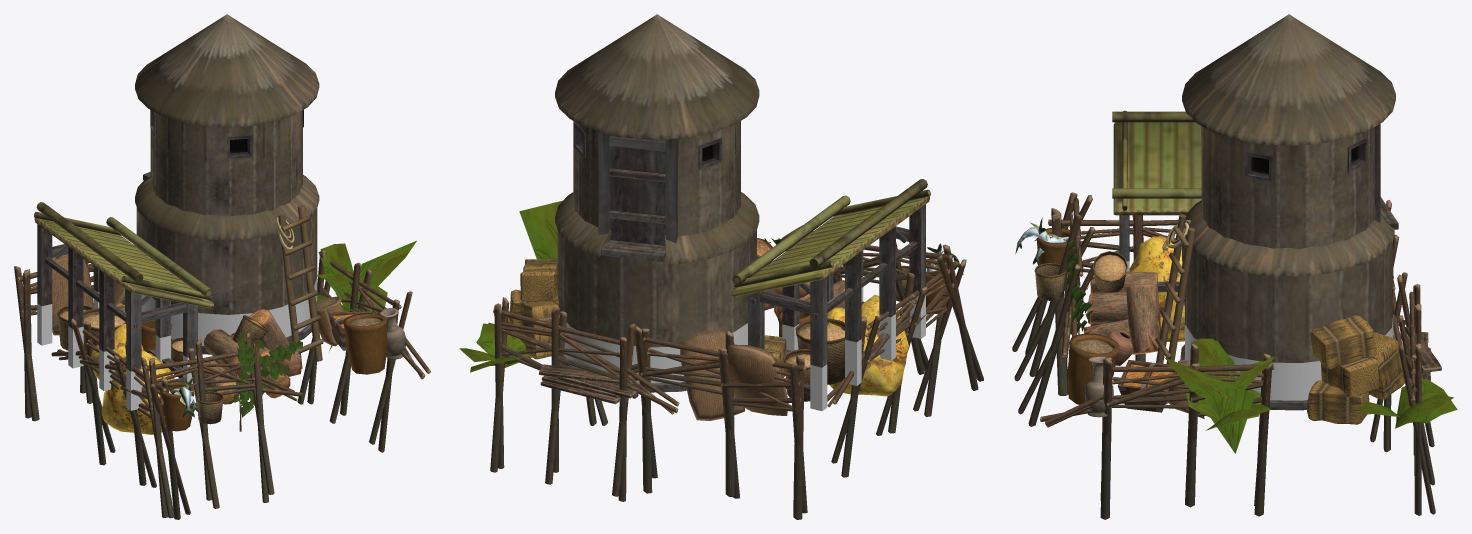
Rendered from 20-silo.glb.
3 renders of one model, left to right at view 1: azimuth 30°, elevation 25°; view 2: azimuth 150°, elevation 25°; view 3: azimuth 270°, elevation 25°, orthographic. The views are drawn at different scales.
Bounding box in the file's own units: 4.83 × 5.47 × 4.77.
20 materials, 20 textured.
